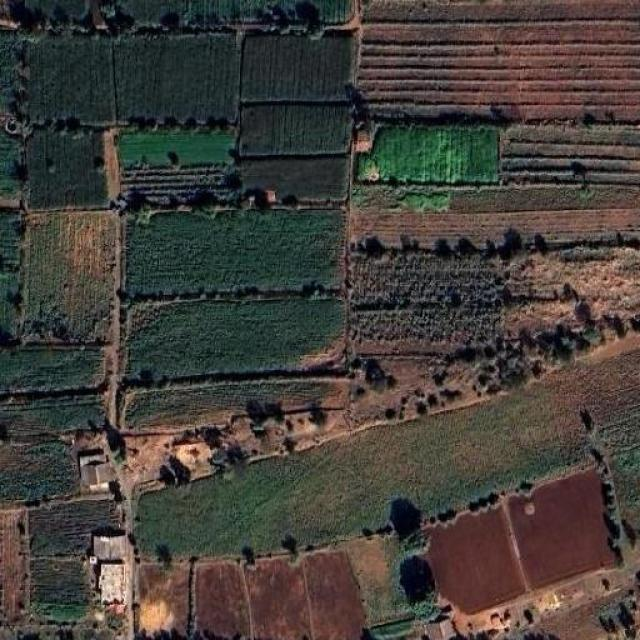land-Sx1C: (136, 349, 640, 556), (358, 0, 639, 123), (425, 466, 615, 613), (126, 210, 344, 296), (349, 249, 509, 358), (128, 299, 345, 375), (351, 211, 640, 258), (501, 246, 640, 343), (21, 210, 120, 341), (509, 468, 616, 588), (126, 379, 349, 428), (115, 35, 239, 121), (29, 498, 116, 619), (248, 551, 365, 640), (426, 509, 525, 612), (501, 125, 640, 184), (368, 125, 499, 183), (30, 36, 115, 122), (243, 34, 352, 101), (28, 129, 109, 208), (118, 1, 354, 28), (240, 104, 351, 156), (120, 164, 241, 211), (338, 535, 396, 624), (451, 185, 640, 212), (240, 155, 349, 201), (119, 128, 235, 168), (0, 440, 78, 499), (0, 348, 101, 389), (195, 561, 249, 637), (0, 395, 102, 432), (140, 562, 188, 634), (0, 508, 30, 621), (352, 184, 451, 212), (0, 30, 25, 114), (0, 125, 25, 198), (101, 126, 121, 201), (25, 0, 88, 20), (0, 210, 20, 269), (0, 272, 18, 337)
